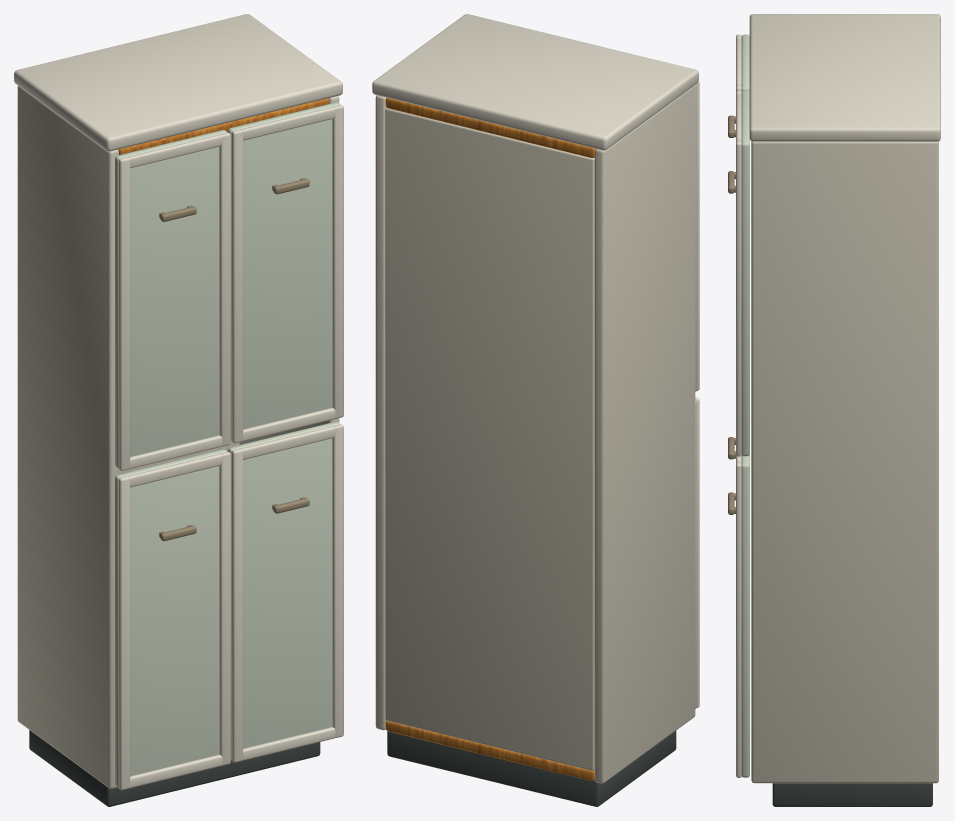
The model's file is tall-pantry-cabinet.glb.
3 views of the same model, side by side, from view 1: azimuth 30°, elevation 25°; view 2: azimuth 150°, elevation 25°; view 3: azimuth 270°, elevation 25° (orthographic).
Parts seen in each view (by area): view 1: tall-pantry-cabinet; view 2: tall-pantry-cabinet; view 3: tall-pantry-cabinet.
Boxes of the visible parts, box(x1,y1,x2,y2) form: tall-pantry-cabinet: box(14, 14, 343, 806); tall-pantry-cabinet: box(372, 14, 699, 806); tall-pantry-cabinet: box(728, 14, 940, 806).
Bounding box in the file's own units: 0.8 × 2.2 × 0.62.
6 materials, 1 textured.
